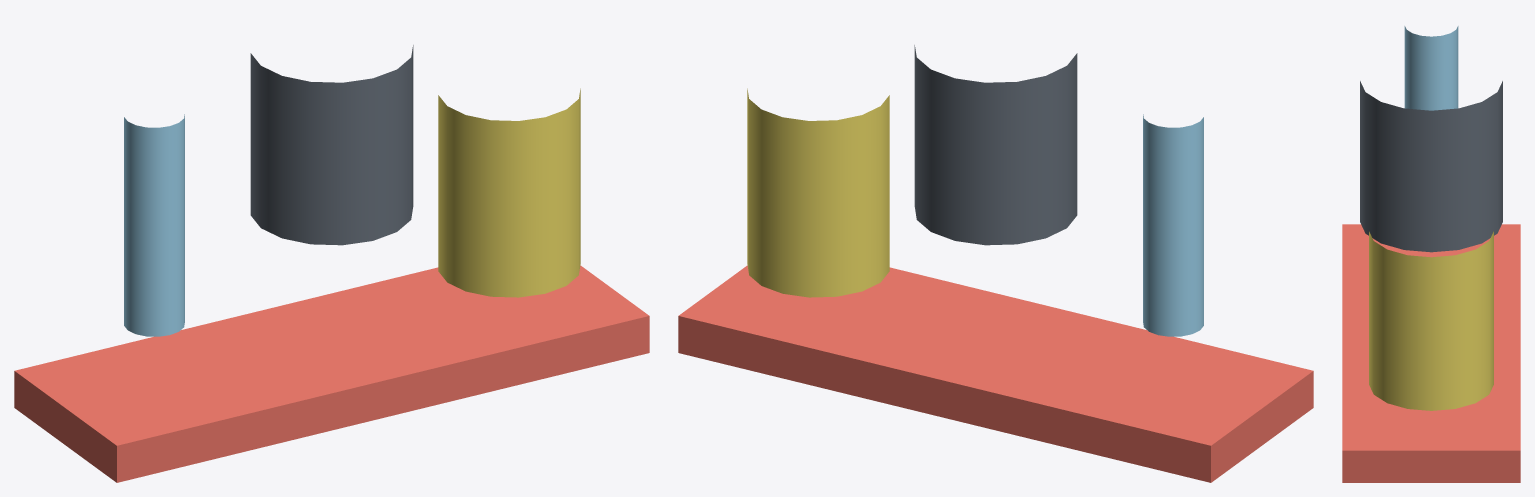
The model's file is bjt_biasing_stability_factors.glb.
3 renders of one model, left to right at view 1: azimuth 30°, elevation 25°; view 2: azimuth 150°, elevation 25°; view 3: azimuth 270°, elevation 25°, orthographic. The views are drawn at different scales.
Visible parts, largest first — view 1: DualRegulatedDCPowerRails, TO92SiliconNPNTransistor, EmitterBypassCapacitor, VoltageDividerMetalFilmResistors; view 2: DualRegulatedDCPowerRails, TO92SiliconNPNTransistor, EmitterBypassCapacitor, VoltageDividerMetalFilmResistors; view 3: DualRegulatedDCPowerRails, TO92SiliconNPNTransistor, EmitterBypassCapacitor, VoltageDividerMetalFilmResistors.
Boxes of the visible parts, left/top/right/bottom form: DualRegulatedDCPowerRails: left=14, top=265, right=649, bottom=482; TO92SiliconNPNTransistor: left=250, top=45, right=413, bottom=245; EmitterBypassCapacitor: left=438, top=88, right=580, bottom=297; VoltageDividerMetalFilmResistors: left=124, top=114, right=184, bottom=336; DualRegulatedDCPowerRails: left=678, top=265, right=1313, bottom=482; TO92SiliconNPNTransistor: left=914, top=45, right=1077, bottom=245; EmitterBypassCapacitor: left=747, top=88, right=889, bottom=297; VoltageDividerMetalFilmResistors: left=1143, top=114, right=1203, bottom=336; DualRegulatedDCPowerRails: left=1342, top=224, right=1520, bottom=482; TO92SiliconNPNTransistor: left=1360, top=81, right=1502, bottom=252; EmitterBypassCapacitor: left=1369, top=231, right=1493, bottom=410; VoltageDividerMetalFilmResistors: left=1404, top=26, right=1458, bottom=110.
Bounding box in the file's own units: 1.2 × 0.715 × 0.4.
